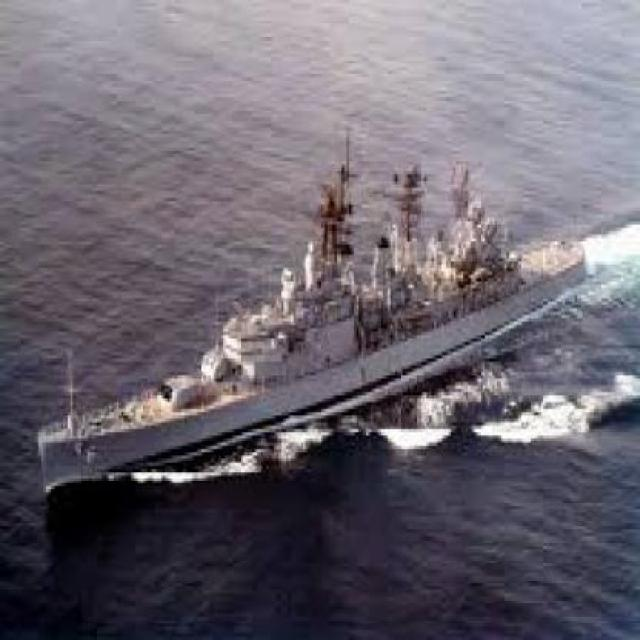warship2: (28, 111, 592, 531)
